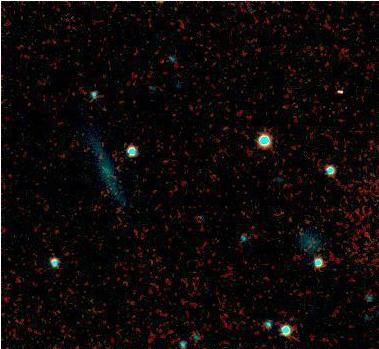star: (275, 136, 305, 166)
